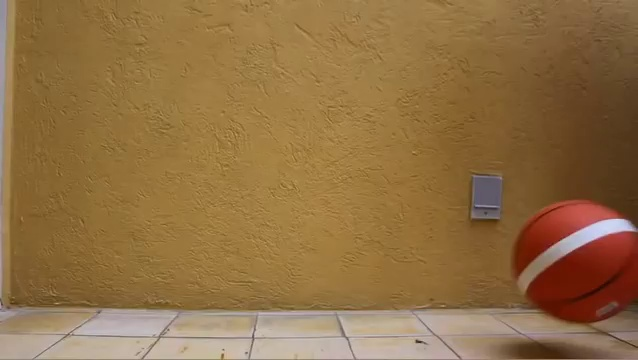ball: (511, 198, 638, 324)
